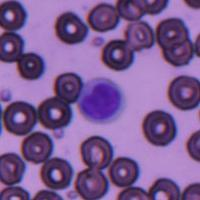M: (76, 77, 125, 123)
